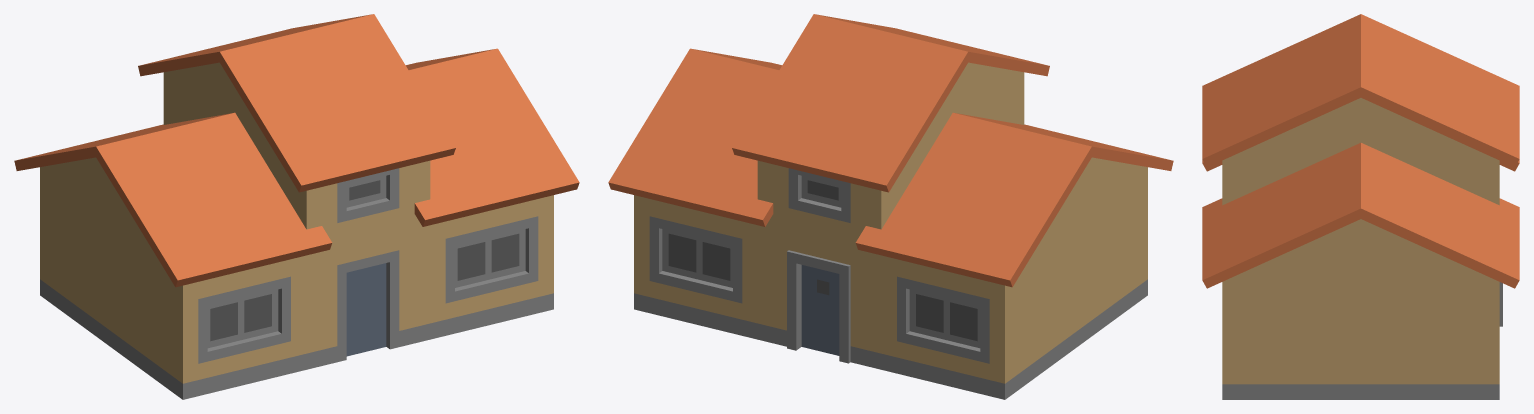
The model's file is SM_Suburb_House_08.fbx.
3 views of the same model, side by side, from view 1: azimuth 30°, elevation 25°; view 2: azimuth 150°, elevation 25°; view 3: azimuth 270°, elevation 25° (orthographic). The views are drawn at different scales.
Parts seen in each view (by area): view 1: SM_Suburb_House_08; view 2: SM_Suburb_House_08; view 3: SM_Suburb_House_08.
Part boxes in pixels (x1,y1,x2,y2): SM_Suburb_House_08: [14, 14, 579, 399]; SM_Suburb_House_08: [608, 14, 1173, 399]; SM_Suburb_House_08: [1202, 14, 1519, 399].
Size of the model in its own units: 936 by 600 by 660.
